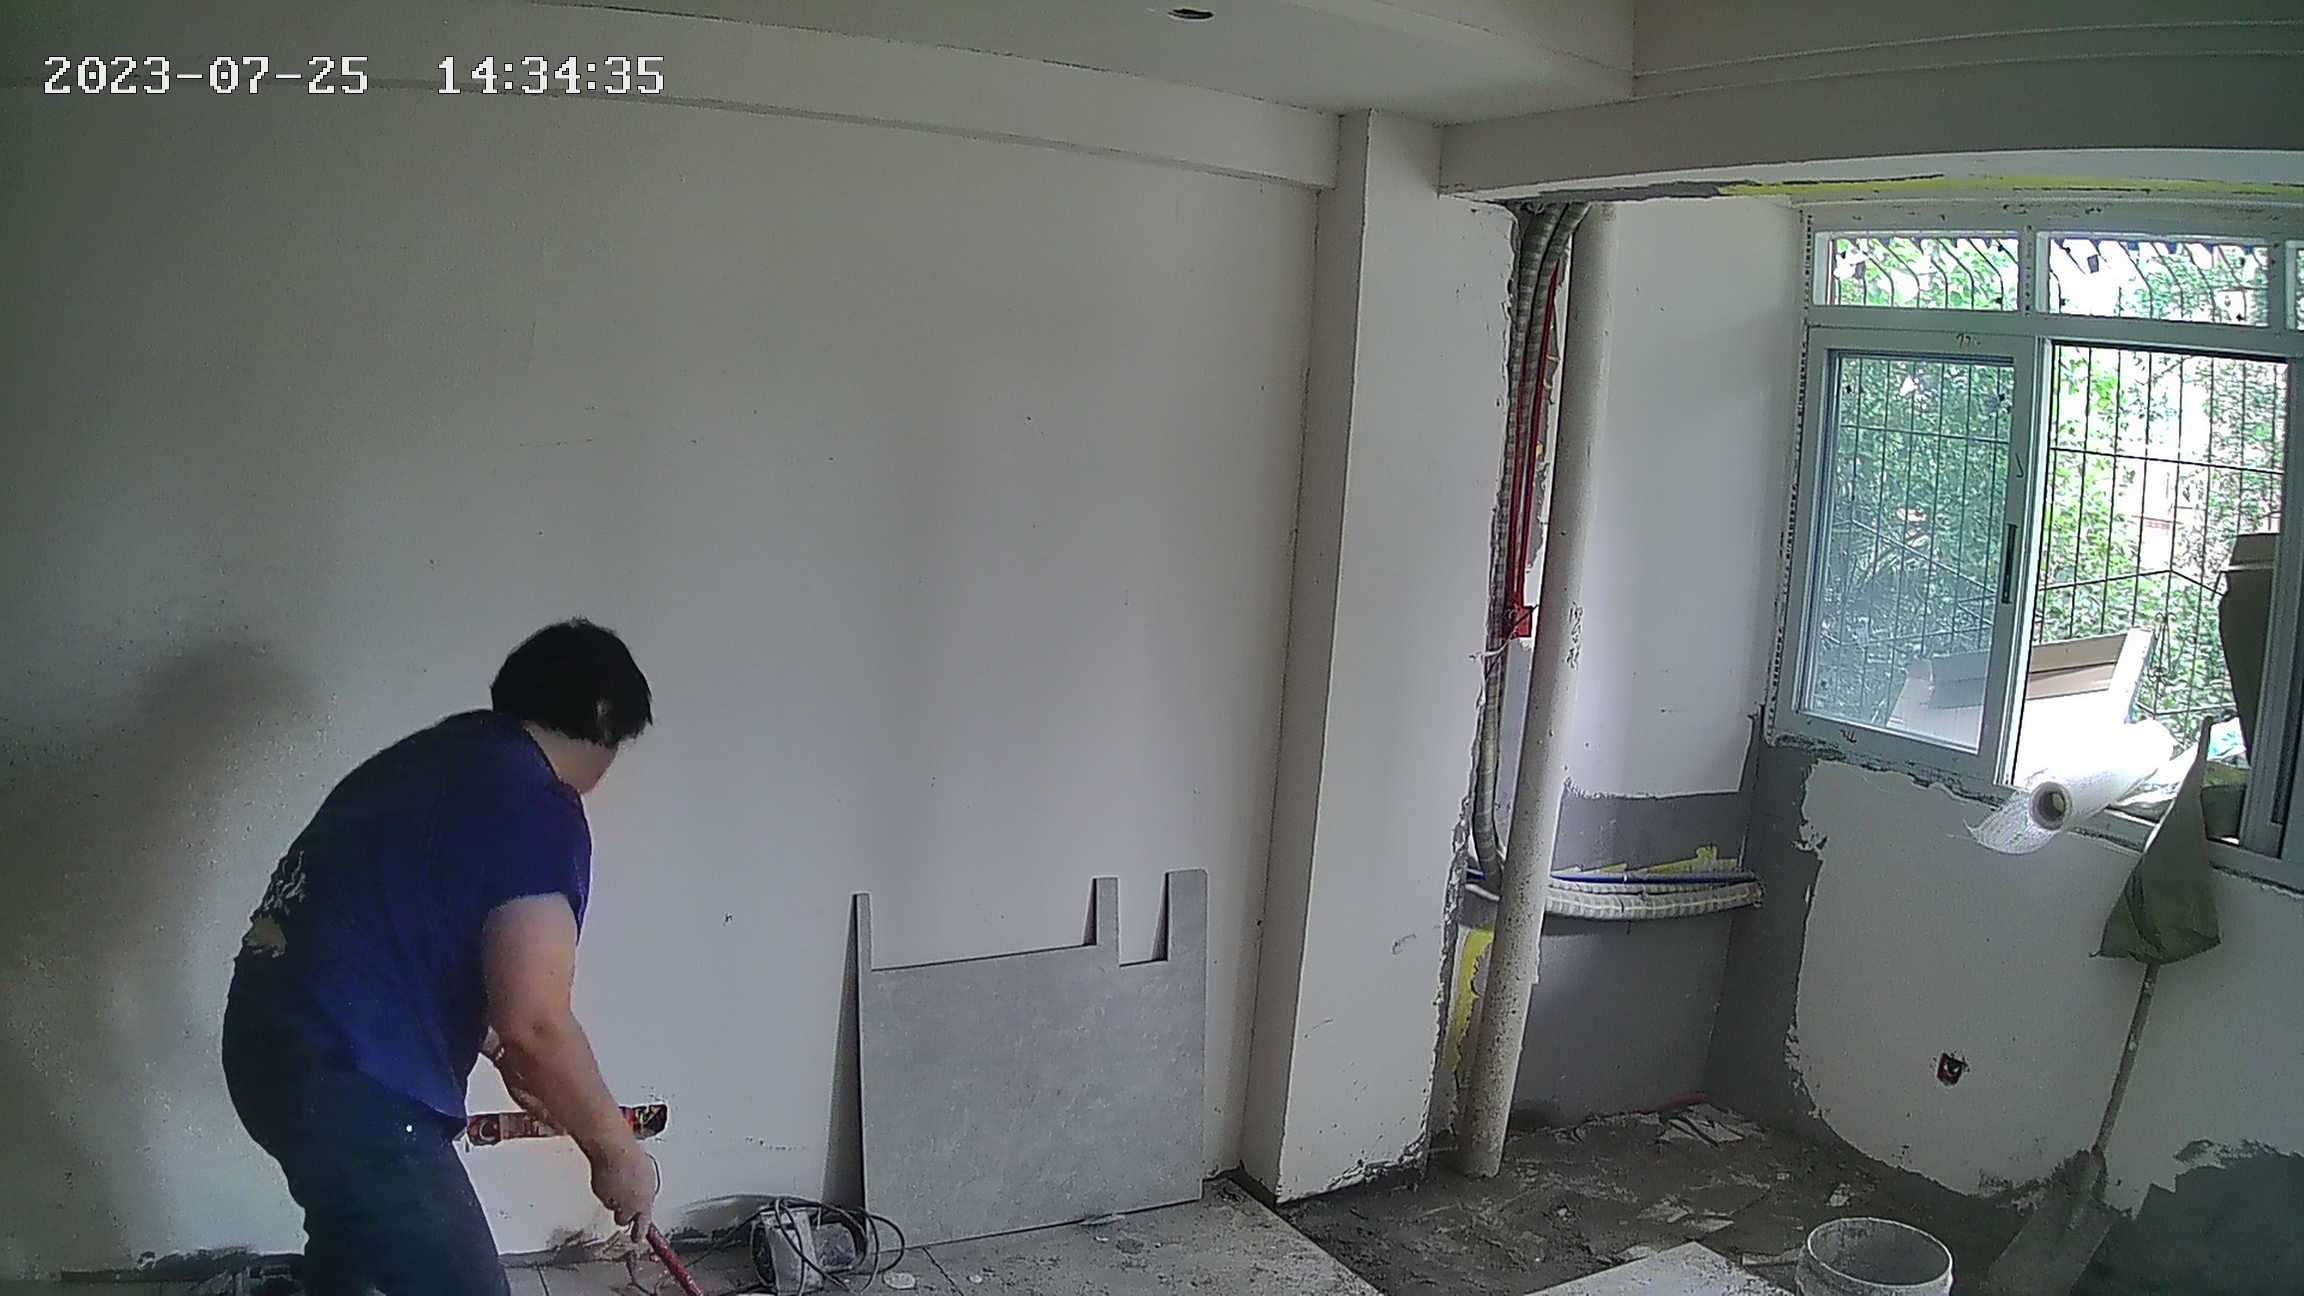people: (217, 617, 664, 1294)
window: (1797, 226, 2304, 862)
